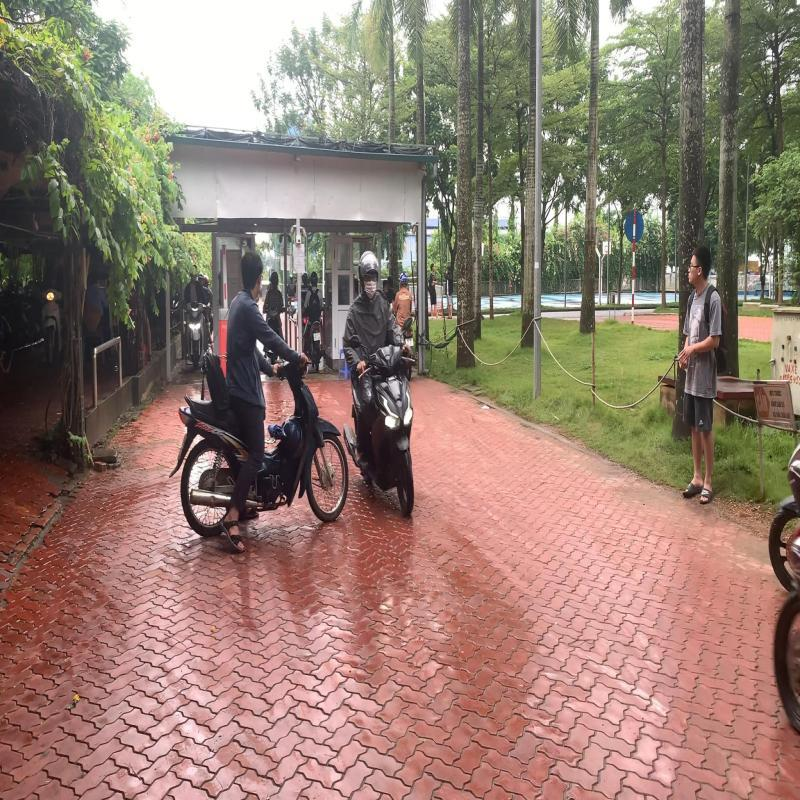nohelmet: (240, 250, 264, 300)
